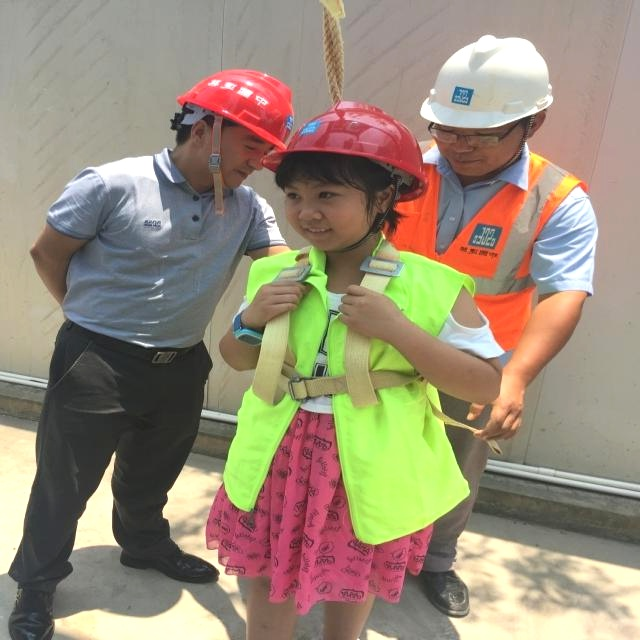Con_Casco: (425, 36, 555, 162), (174, 68, 292, 194)
